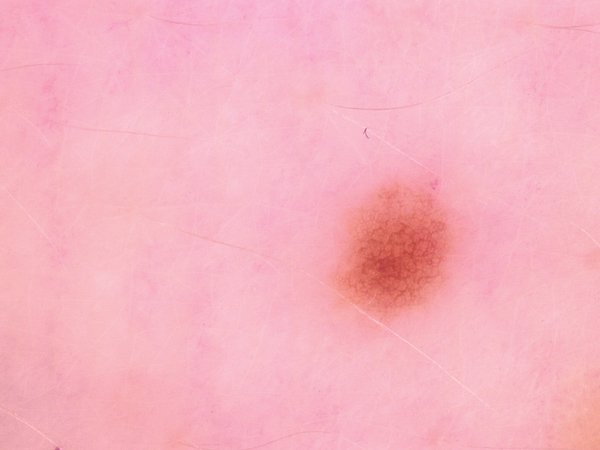Detected Lesion: (332, 173, 456, 314)
